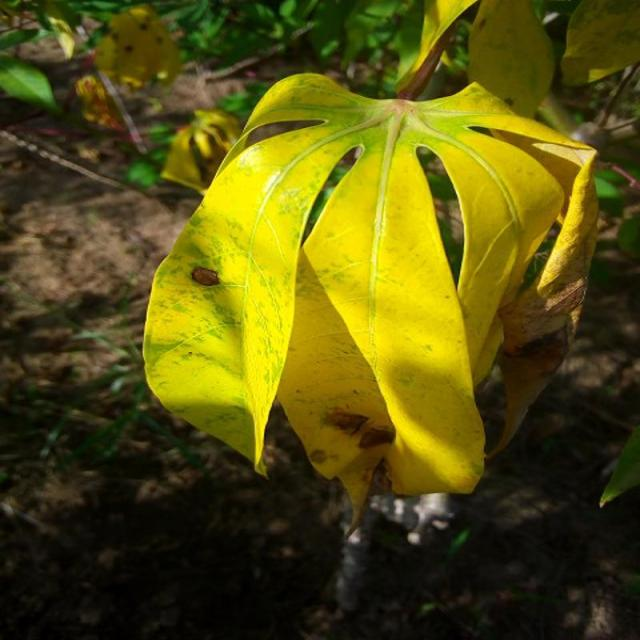cassava leaf: (141, 66, 599, 536)
